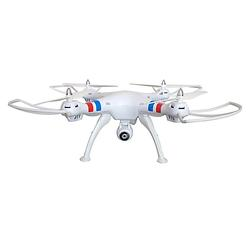drone: (7, 78, 242, 165)
